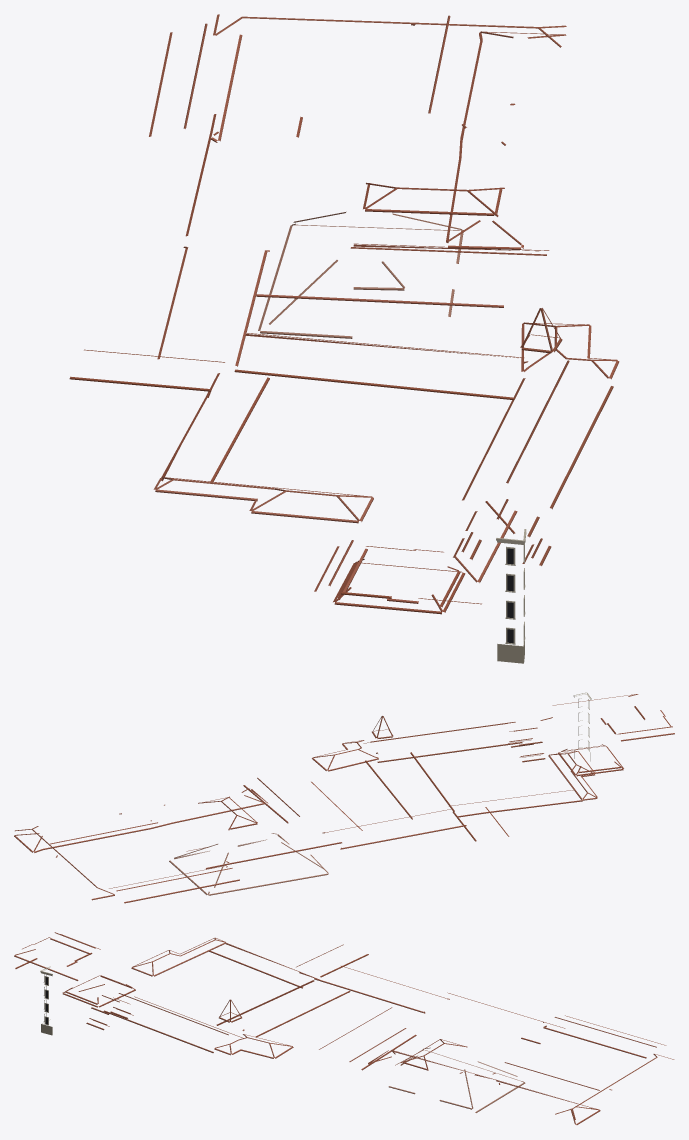
3 views of the same model, one above another, from view 1: azimuth 30°, elevation 25°; view 2: azimuth 150°, elevation 25°; view 3: azimuth 270°, elevation 25° (orthographic). The views are drawn at different scales.
Visible parts, largest first — view 1: detail; view 2: detail; view 3: detail.
Boxes of the visible parts, x1,y1,x2,y2 form: detail: (69, 14, 619, 663); detail: (14, 692, 674, 903); detail: (14, 932, 674, 1124).
Bounding box in the file's own units: 114 × 23.57 × 169.
